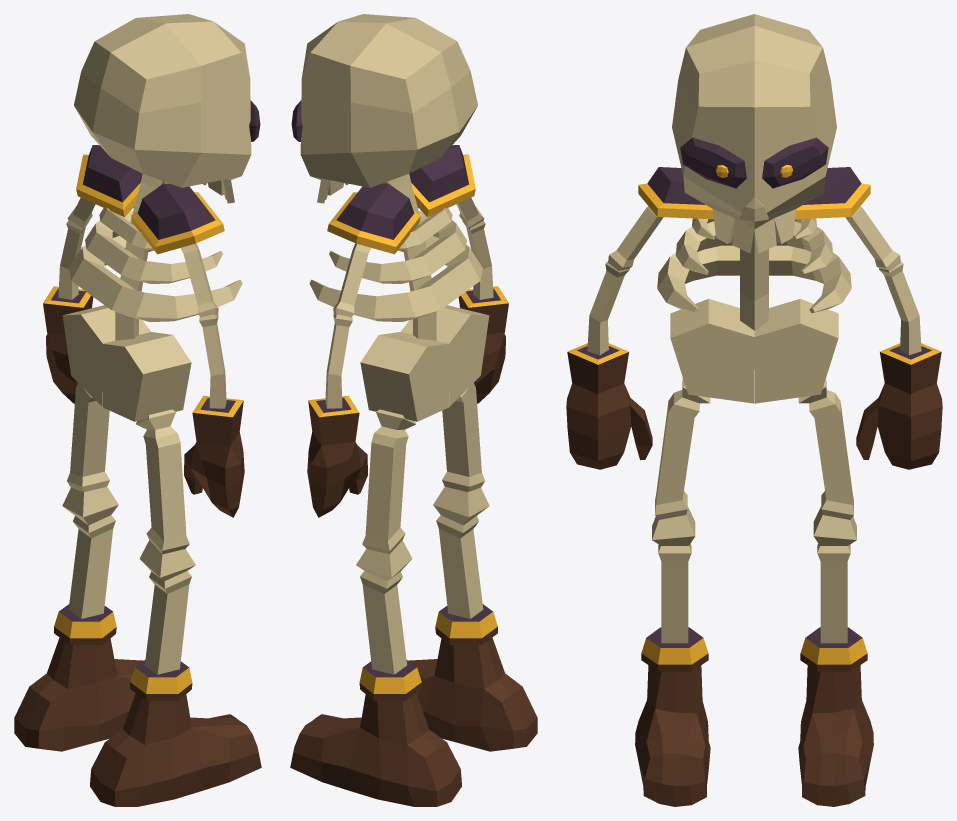
The model's file is SkullUnable.fbx.
3 views of the same model, side by side, from view 1: azimuth 30°, elevation 25°; view 2: azimuth 150°, elevation 25°; view 3: azimuth 270°, elevation 25° (orthographic). The views are drawn at different scales.
Parts seen in each view (by area): view 1: Plane; view 2: Plane; view 3: Plane.
Part boxes in pixels (left/top/right/bottom): Plane: left=14, top=14, right=261, bottom=806; Plane: left=290, top=14, right=537, bottom=806; Plane: left=566, top=14, right=942, bottom=806.
Size of the model in its own units: 591 by 2253 by 1010.
